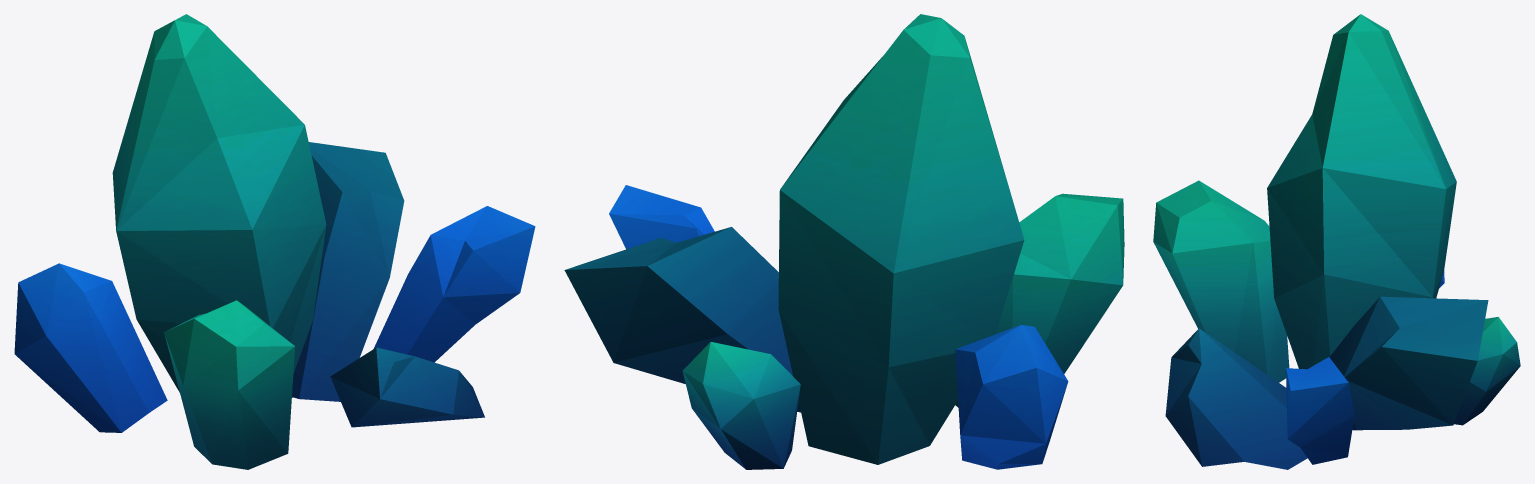
The model's file is ZLP_Crystalk_A_12.FBX.
The picture shows the model from 3 angles, left to right: view 1: azimuth 30°, elevation 25°; view 2: azimuth 150°, elevation 25°; view 3: azimuth 270°, elevation 25°; orthographic projection. The views are drawn at different scales.
Parts seen in each view (by area): view 1: ZLP_Crystalk_A_12; view 2: ZLP_Crystalk_A_12; view 3: ZLP_Crystalk_A_12.
Boxes of the visible parts, x1=… form: ZLP_Crystalk_A_12: x1=14, y1=14, x2=535, y2=469; ZLP_Crystalk_A_12: x1=564, y1=14, x2=1124, y2=469; ZLP_Crystalk_A_12: x1=1153, y1=14, x2=1520, y2=469.
Size of the model in its own units: 151 by 126 by 117.
